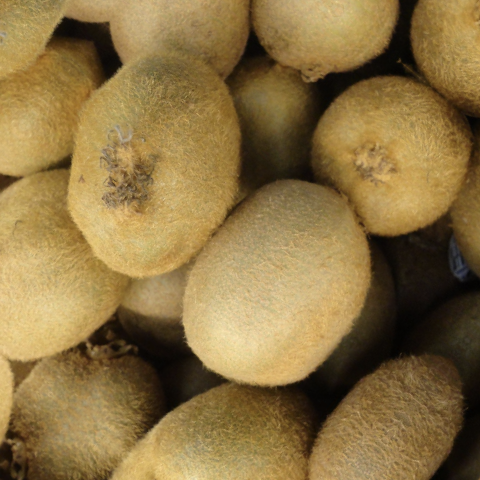kiwi: (129, 120, 440, 436), (3, 8, 311, 323), (269, 43, 480, 280), (0, 141, 171, 397)
